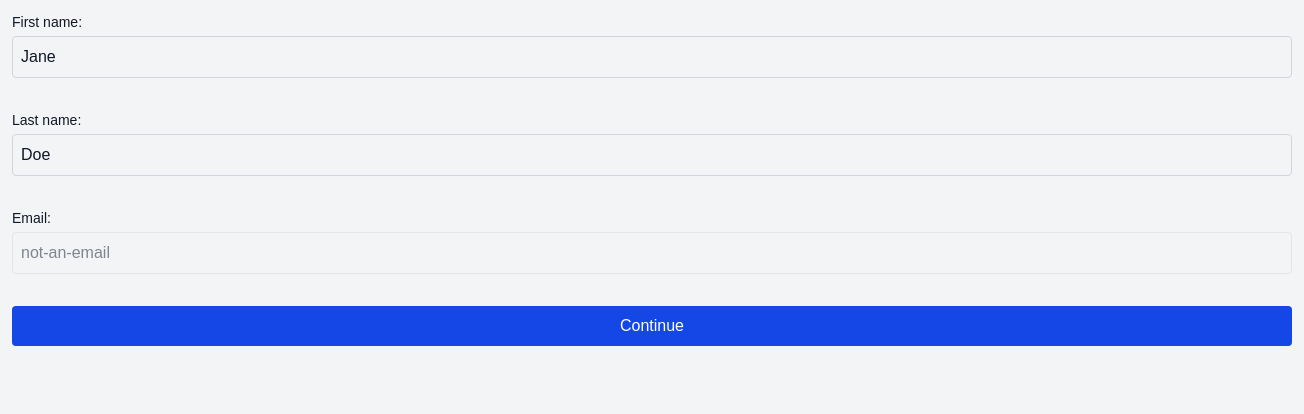
it: CompleteSignUpForm › validation › shows invalid email when the session email is not valid
Click the button "Continue" at (652, 326), box [12, 306, 1292, 346]
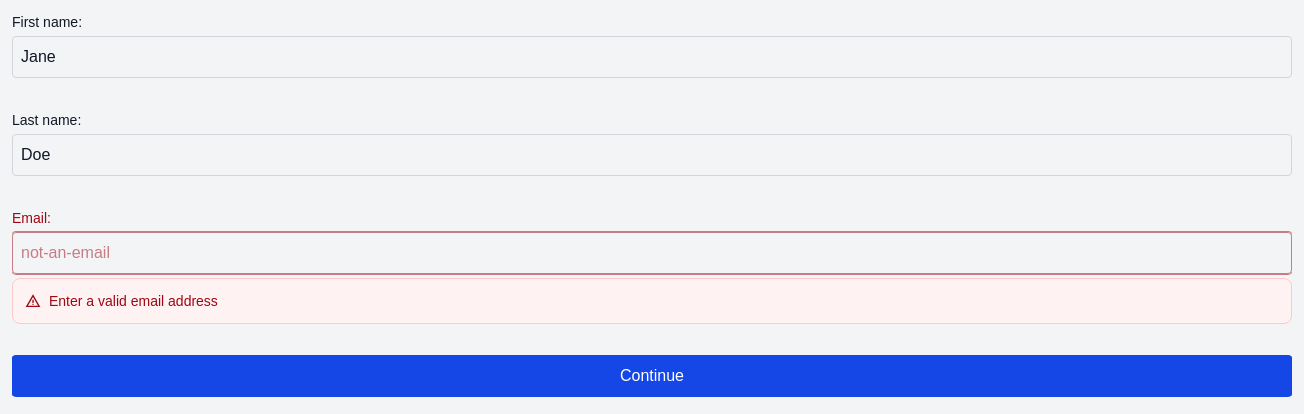
Check: the text "Enter a valid email address" is shown, box [25, 293, 218, 309]
